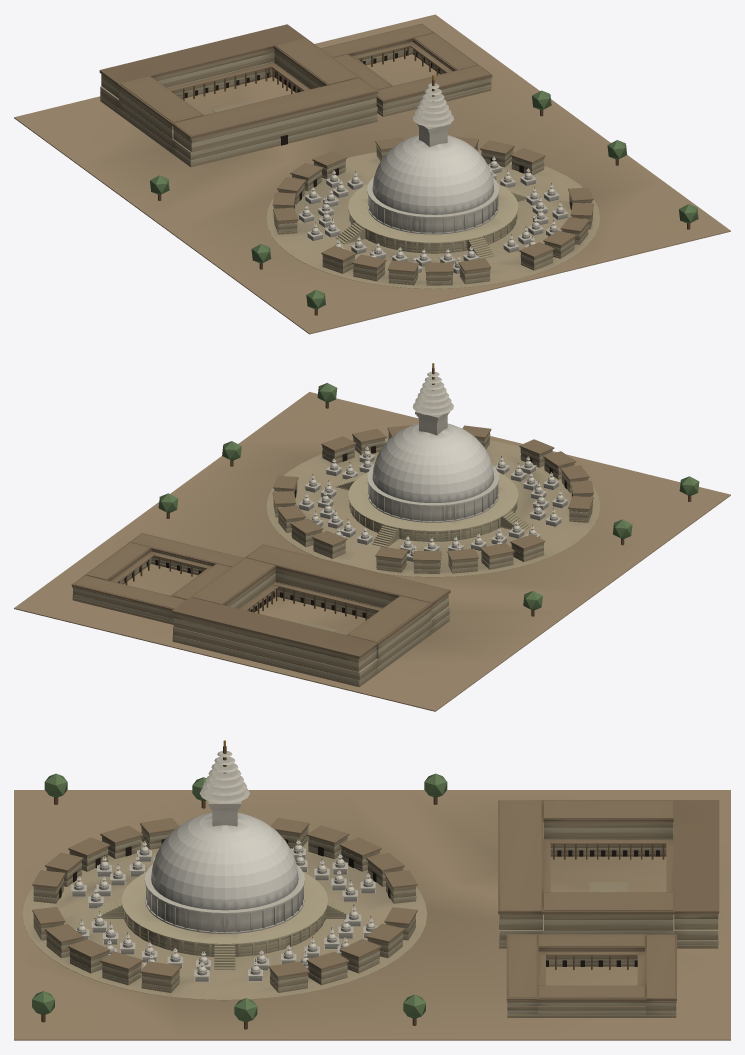
Rendered from dharmarajika.glb.
3 views of the same model, one above another, from view 1: azimuth 30°, elevation 25°; view 2: azimuth 150°, elevation 25°; view 3: azimuth 270°, elevation 25° (orthographic). The views are drawn at different scales.
Parts seen in each view (by area): view 1: p0_court, p2_monastery, p1_great stupa, p3_trees; view 2: p0_court, p2_monastery, p1_great stupa, p3_trees; view 3: p0_court, p2_monastery, p1_great stupa, p3_trees.
Part boxes in pixels (x1,y1,x2,y2): p0_court: [14, 14, 730, 334]; p2_monastery: [99, 23, 593, 285]; p1_great stupa: [335, 74, 527, 259]; p3_trees: [150, 90, 698, 315]; p0_court: [14, 392, 730, 711]; p2_monastery: [71, 425, 593, 687]; p1_great stupa: [335, 363, 530, 547]; p3_trees: [158, 383, 699, 616]; p0_court: [14, 790, 730, 1040]; p2_monastery: [32, 800, 719, 1017]; p1_great stupa: [94, 740, 355, 969]; p3_trees: [32, 773, 447, 1029].
Size of the model in its own units: 140 by 45.89 by 170.
